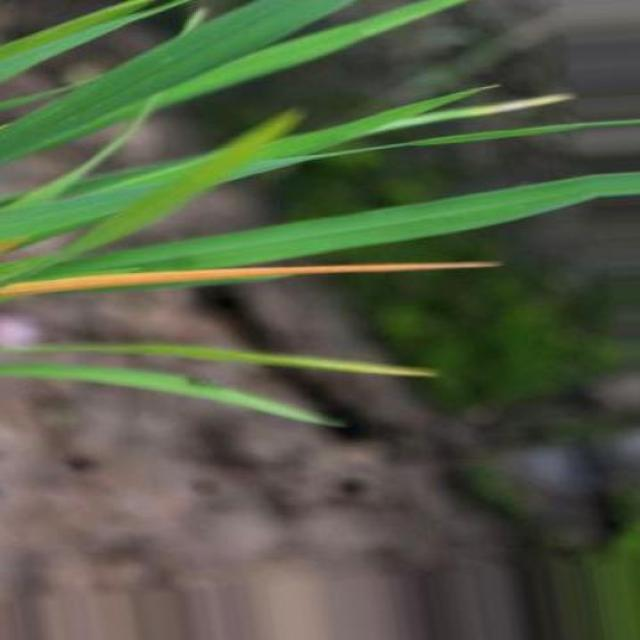Rice Tungro: (0, 262, 501, 298)
